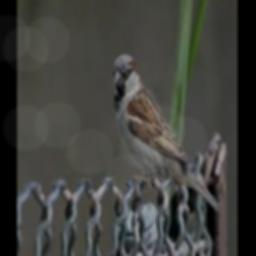Sparrow: (111, 52, 221, 216)
